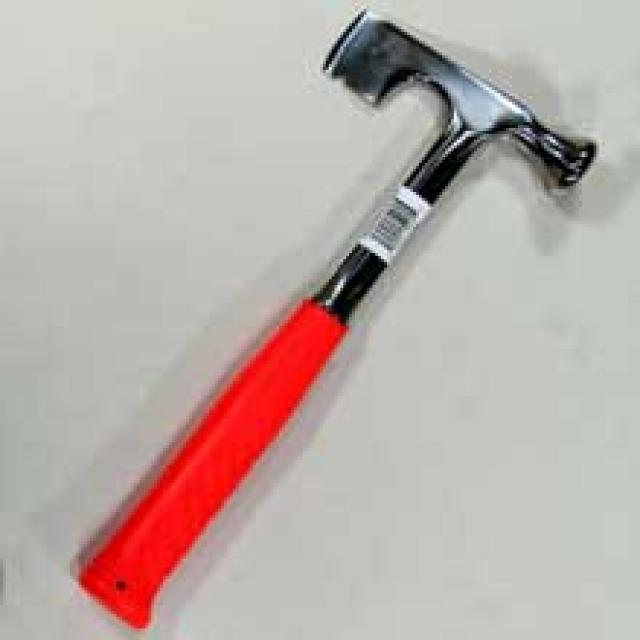hammer: (66, 1, 594, 632)
